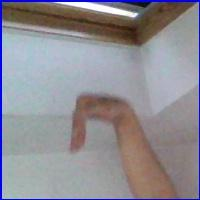del: (58, 87, 144, 158)
